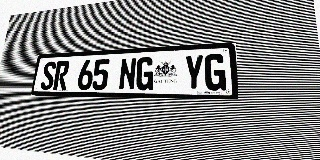5: (92, 59, 110, 90)
6: (77, 60, 95, 90)
G: (205, 53, 226, 91), (135, 57, 154, 90)
N: (118, 58, 137, 90)
R: (53, 61, 70, 90)
S: (40, 61, 57, 90)
Y: (184, 54, 204, 91)
